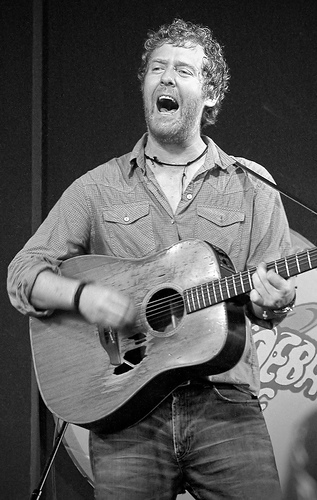guitar: (27, 238, 317, 436)
